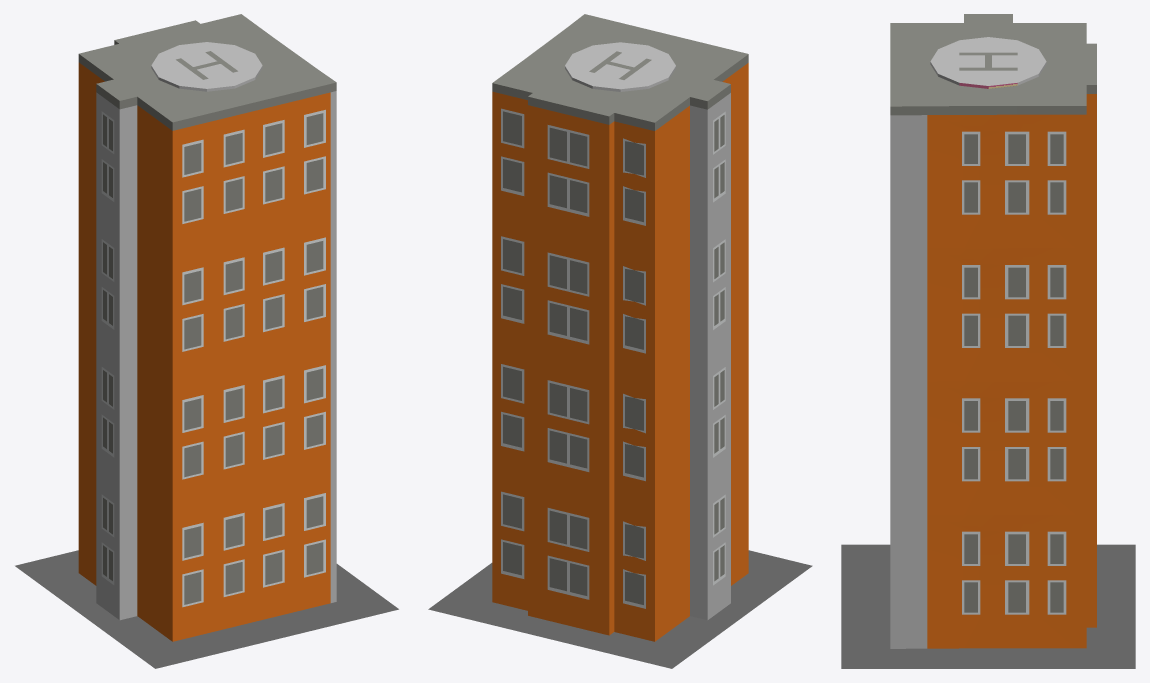
File: Building_4.fbx
3 views of the same model, side by side, from view 1: azimuth 30°, elevation 25°; view 2: azimuth 150°, elevation 25°; view 3: azimuth 270°, elevation 25° (orthographic). The views are drawn at different scales.
Visible parts, largest first — view 1: Building_4; view 2: Building_4; view 3: Building_4.
Part boxes in pixels (x1=…): Building_4: x1=15, y1=14, x2=398, y2=668; Building_4: x1=428, y1=14, x2=812, y2=668; Building_4: x1=841, y1=14, x2=1135, y2=668.
Bounding box in the file's own units: 1 × 2.04 × 1.
Materials: 2 (2 with a texture image).
